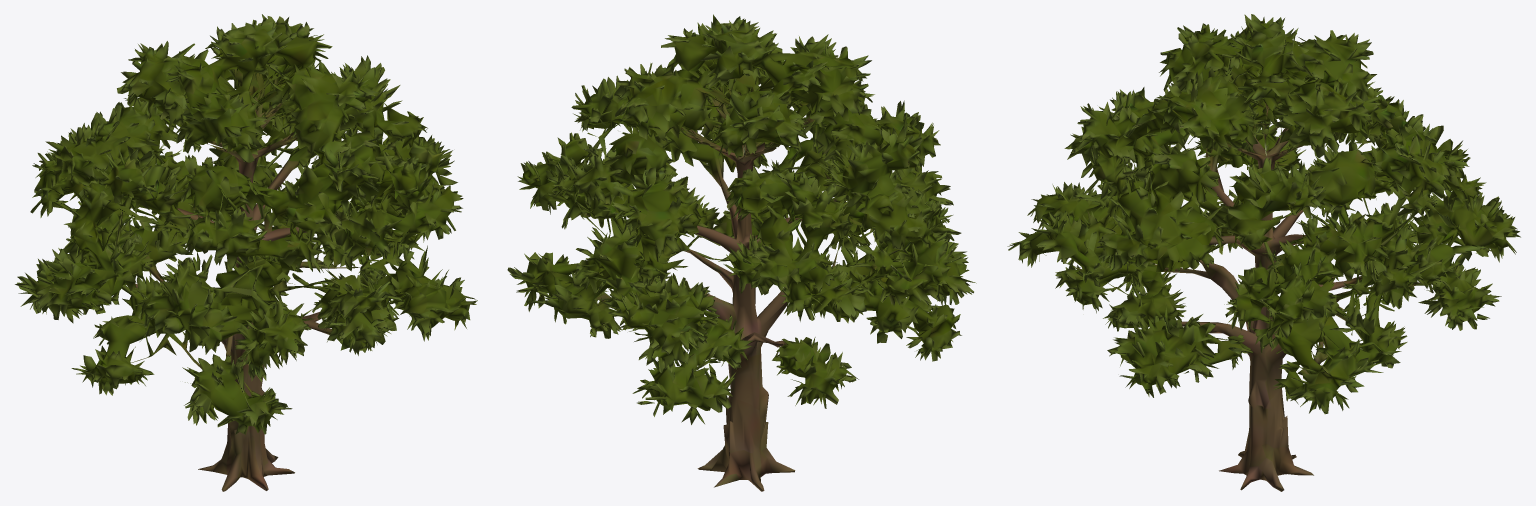
The model's file is tree-oak.glb.
The picture shows the model from 3 angles, left to right: view 1: azimuth 30°, elevation 25°; view 2: azimuth 150°, elevation 25°; view 3: azimuth 270°, elevation 25°; orthographic projection.
Visible parts, largest first — view 1: tripo_node_6102de63-1a5a-40dd-a3e2-5400e8050e3f; view 2: tripo_node_6102de63-1a5a-40dd-a3e2-5400e8050e3f; view 3: tripo_node_6102de63-1a5a-40dd-a3e2-5400e8050e3f.
Boxes of the visible parts, left/top/right/bottom form: tripo_node_6102de63-1a5a-40dd-a3e2-5400e8050e3f: left=15, top=14, right=477, bottom=491; tripo_node_6102de63-1a5a-40dd-a3e2-5400e8050e3f: left=507, top=14, right=976, bottom=491; tripo_node_6102de63-1a5a-40dd-a3e2-5400e8050e3f: left=1007, top=14, right=1520, bottom=491.
Bounding box in the file's own units: 0.9658 × 0.9418 × 0.9891.
Materials: 1 (1 with a texture image).
